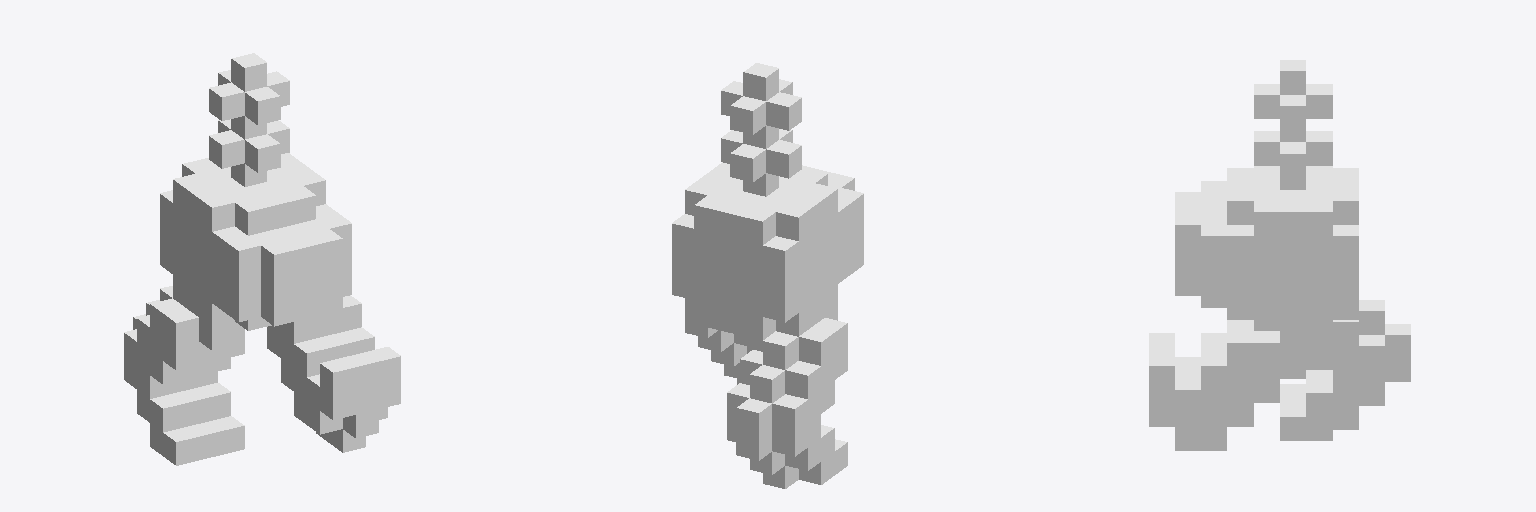
Rendered from TransportMagnetic.obj.
3 renders of one model, left to right at view 1: azimuth 30°, elevation 25°; view 2: azimuth 150°, elevation 25°; view 3: azimuth 270°, elevation 25°, orthographic.
Parts seen in each view (by area): view 1: object 1; view 2: object 1; view 3: object 1.
Part boxes in pixels (bbox=[...]): object 1: bbox=[124, 53, 400, 465]; object 1: bbox=[672, 63, 863, 488]; object 1: bbox=[1149, 60, 1410, 450].
Size of the model in its own units: 0.7 by 1.6 by 1.